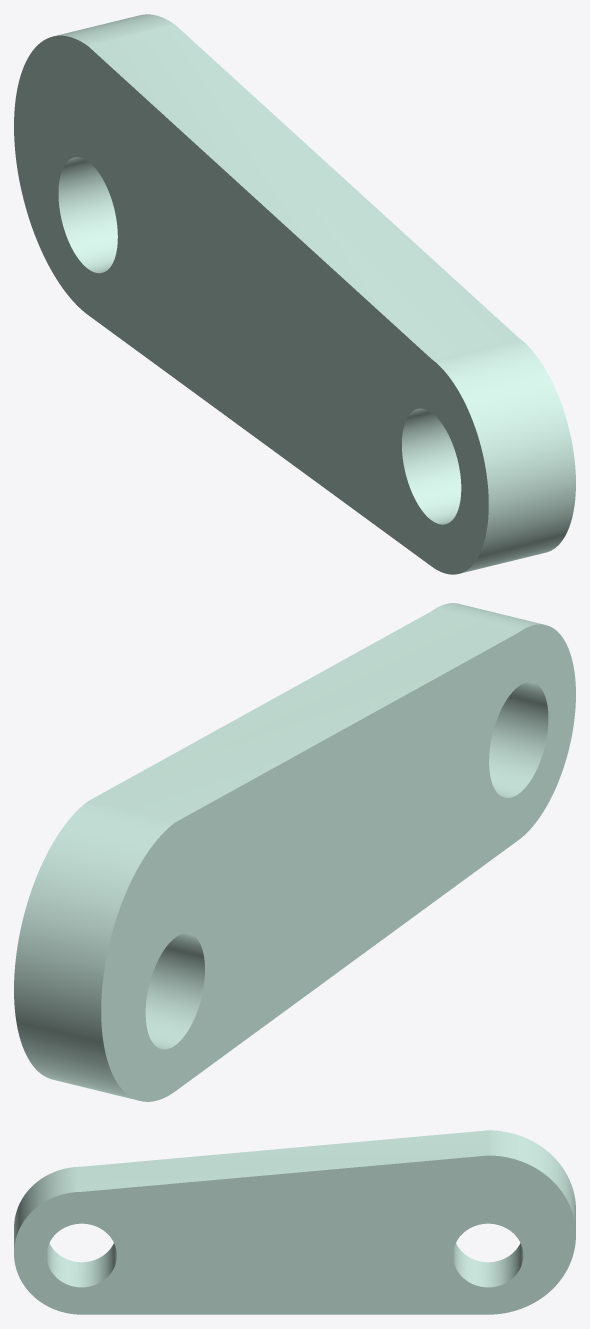
3 renders of one model, top to bottom at view 1: azimuth 30°, elevation 25°; view 2: azimuth 150°, elevation 25°; view 3: azimuth 270°, elevation 25°, orthographic. The views are drawn at different scales.
Parts seen in each view (by area): view 1: Renderer Node; view 2: Renderer Node; view 3: Renderer Node.
Part boxes in pixels (x1,y1,x2,y2): Renderer Node: (14,14,575,574); Renderer Node: (14,603,575,1101); Renderer Node: (14,1130,575,1314).
Size of the model in its own units: 0.1094 by 0.3224 by 1.03.
